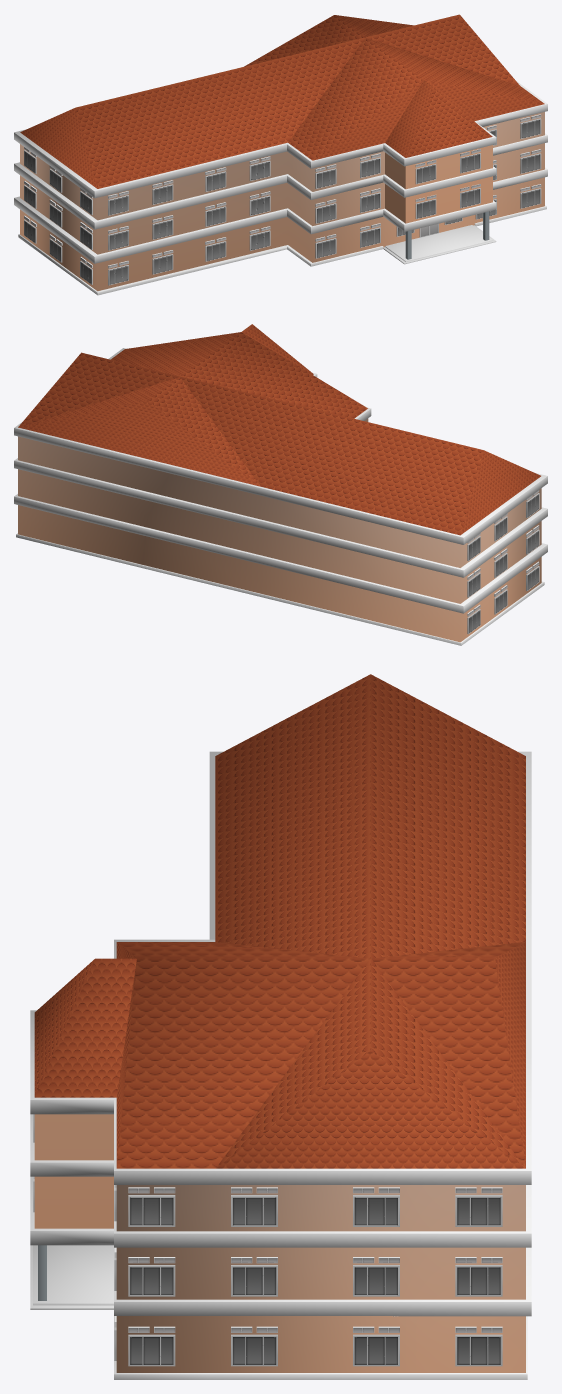
Rendered from Polsek3.fbx.
3 renders of one model, top to bottom at view 1: azimuth 30°, elevation 25°; view 2: azimuth 150°, elevation 25°; view 3: azimuth 270°, elevation 25°, orthographic. The views are drawn at different scales.
Parts seen in each view (by area): view 1: Polres3Body1_LOD0, Polres3Body2_LOD0, Polres3Body2Jendela_LOD0; view 2: Polres3Body1_LOD0, Polres3Body2_LOD0, Polres3Body2Jendela_LOD0; view 3: Polres3Body1_LOD0, Polres3Body2_LOD0, Polres3Body2Jendela_LOD0.
Boxes of the visible parts, x1,y1,x2,y2 form: Polres3Body1_LOD0: [20, 14, 544, 291]; Polres3Body2_LOD0: [14, 81, 547, 295]; Polres3Body2Jendela_LOD0: [24, 114, 541, 285]; Polres3Body1_LOD0: [18, 324, 541, 642]; Polres3Body2_LOD0: [14, 348, 547, 645]; Polres3Body2Jendela_LOD0: [467, 490, 539, 634]; Polres3Body1_LOD0: [34, 674, 525, 1372]; Polres3Body2_LOD0: [30, 751, 531, 1379]; Polres3Body2Jendela_LOD0: [33, 1114, 502, 1366].
Size of what is drawn, in the model's own units: 6191 by 2121 by 3129.
